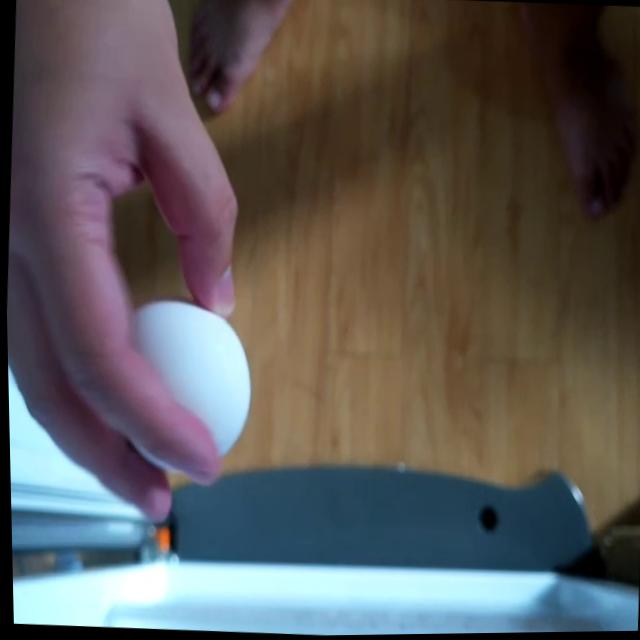egg: (112, 298, 255, 485)
